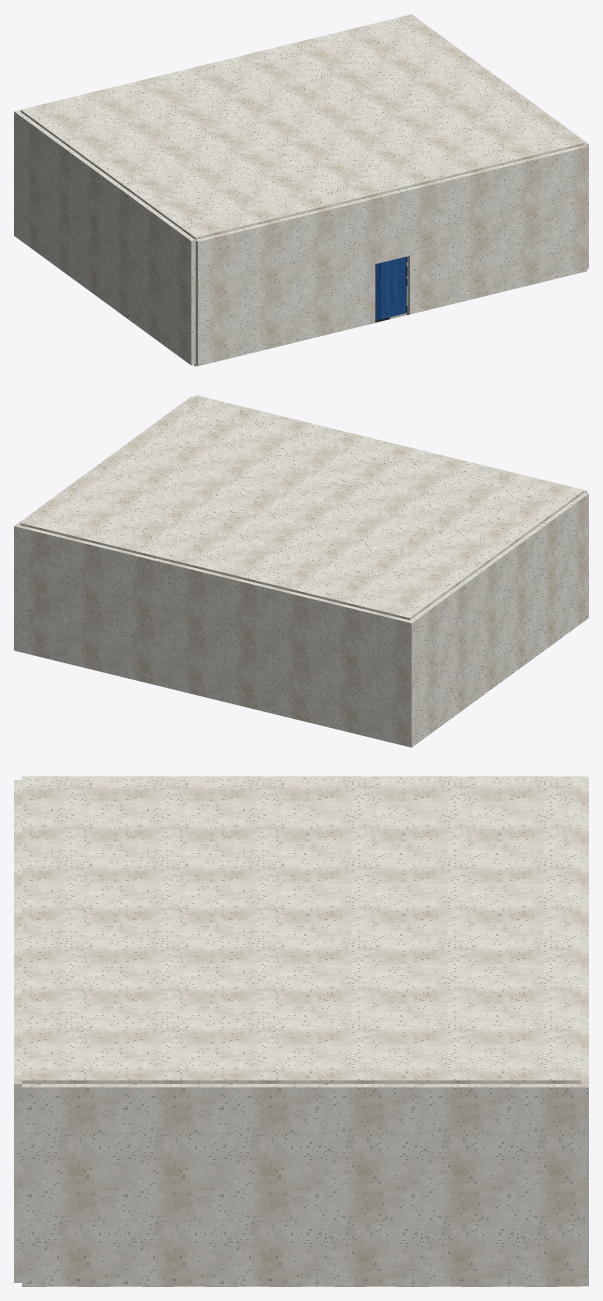
File: sala_grande.obj
3 views of the same model, one above another, from view 1: azimuth 30°, elevation 25°; view 2: azimuth 150°, elevation 25°; view 3: azimuth 270°, elevation 25° (orthographic). The views are drawn at different scales.
Visible parts, largest first — view 1: sala_grande; view 2: sala_grande; view 3: sala_grande.
Boxes of the visible parts, bbox=[...] form: sala_grande: bbox=[14, 14, 588, 366]; sala_grande: bbox=[14, 395, 588, 747]; sala_grande: bbox=[14, 776, 588, 1286].
Size of the model in its own units: 18.4 by 5.7 by 14.4.
Materials: 6 (6 with a texture image).
